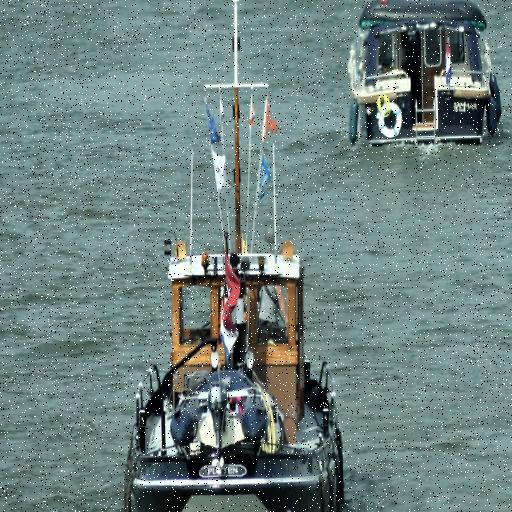tugboat: (121, 1, 348, 512)
